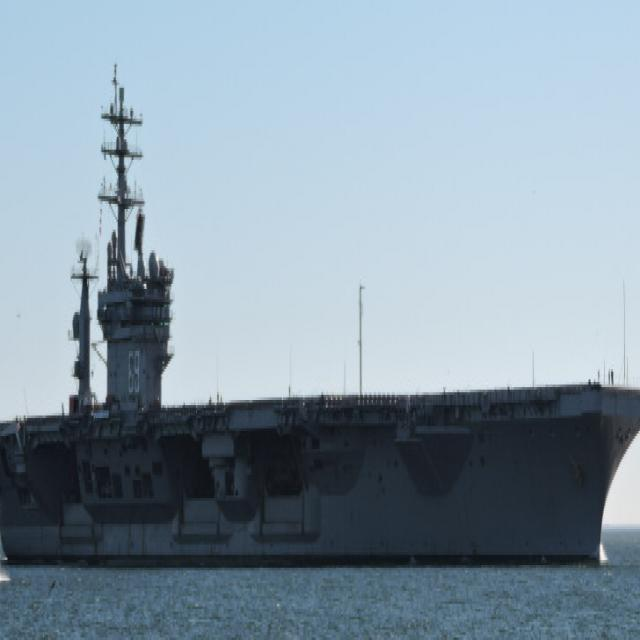Portanaves: (1, 50, 640, 566)
